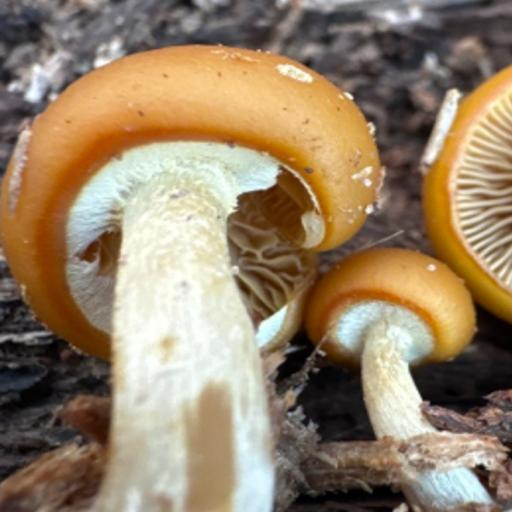mushroom: (5, 42, 512, 402)
